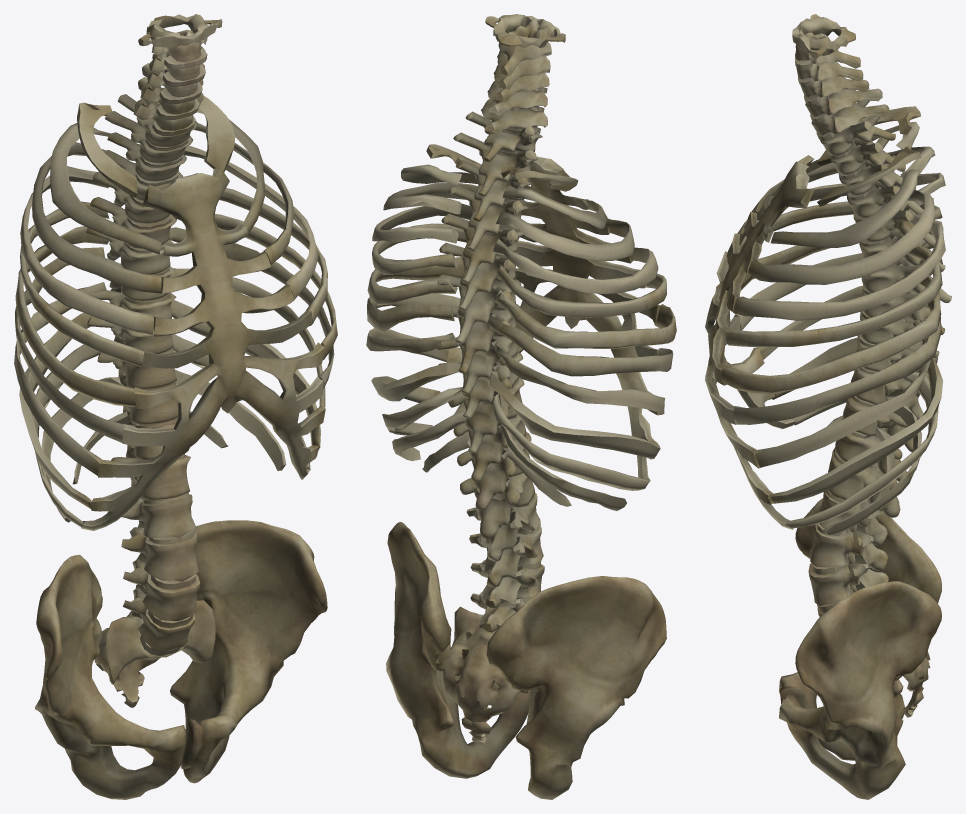
The model's file is upperSkeleton.fbx.
The picture shows the model from 3 angles, left to right: view 1: azimuth 30°, elevation 25°; view 2: azimuth 150°, elevation 25°; view 3: azimuth 270°, elevation 25°; orthographic projection. The views are drawn at different scales.
Visible parts, largest first — view 1: Skeletal_Ribs, polySurface467, polySurface134, polySurface135, polySurface89, polySurface531, polySurface533, polySurface530, polySurface206, polySurface532, polySurface525, polySurface514 (+17 smaller); view 2: Skeletal_Ribs, polySurface135, polySurface134, polySurface467, polySurface89, polySurface525, polySurface531, polySurface514, polySurface512, polySurface533, polySurface206, polySurface503 (+17 smaller); view 3: Skeletal_Ribs, polySurface134, polySurface467, polySurface135, polySurface531, polySurface533, polySurface206, polySurface525, polySurface503, polySurface502, polySurface214, polySurface514 (+16 smaller).
Boxes of the visible parts, box(x1,y1,x2,y2) form: Skeletal_Ribs: box(14, 95, 337, 527); polySurface467: box(81, 167, 325, 530); polySurface134: box(170, 520, 327, 783); polySurface135: box(35, 554, 186, 799); polySurface89: box(94, 600, 215, 707); polySurface531: box(121, 527, 198, 581); polySurface533: box(123, 559, 200, 620); polySurface530: box(122, 494, 195, 538); polySurface206: box(138, 14, 222, 47); polySurface532: box(123, 587, 194, 651); polySurface525: box(111, 455, 190, 500); polySurface514: box(86, 228, 173, 274); Skeletal_Ribs: box(366, 144, 676, 510); polySurface135: box(486, 576, 666, 799); polySurface134: box(386, 522, 530, 778); polySurface467: box(440, 156, 665, 479); polySurface89: box(443, 606, 541, 744); polySurface525: box(460, 460, 534, 539); polySurface531: box(469, 526, 543, 587); polySurface514: box(437, 274, 521, 344); polySurface512: box(441, 213, 523, 283); polySurface533: box(470, 559, 544, 608); polySurface206: box(485, 14, 565, 47); polySurface503: box(453, 132, 537, 196); Skeletal_Ribs: box(721, 106, 945, 535); polySurface134: box(779, 581, 941, 799); polySurface467: box(705, 155, 814, 529); polySurface135: box(779, 498, 941, 760); polySurface531: box(810, 524, 888, 573); polySurface533: box(808, 553, 888, 605); polySurface206: box(792, 14, 855, 58); polySurface525: box(828, 449, 900, 517); polySurface503: box(829, 117, 905, 174); polySurface502: box(820, 100, 895, 155); polySurface214: box(811, 102, 889, 135); polySurface514: box(861, 239, 951, 302).
Bounding box in the file's own units: 29.17 × 76.88 × 22.96.
